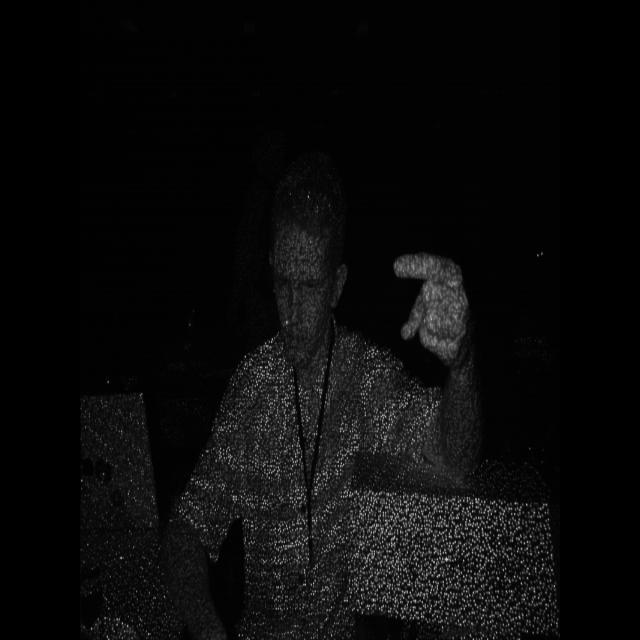G: (382, 214, 478, 379)
